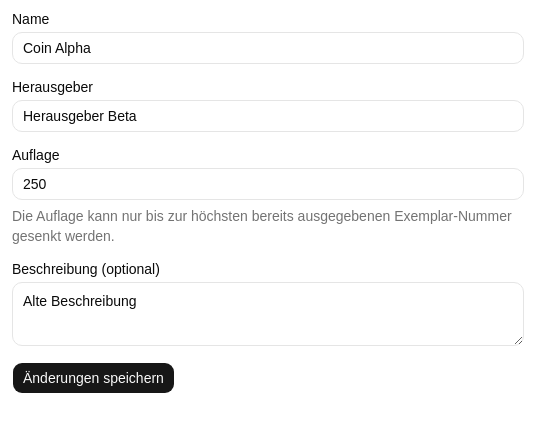
Test: Fehler vom Server › zeigt 403 für Deaktivierte „Ihr Benutzerkonto ist deaktiviert.“
The image size is (541, 447).
Click the button "Änderungen speichern" at (93, 378), box [12,362,175,394]
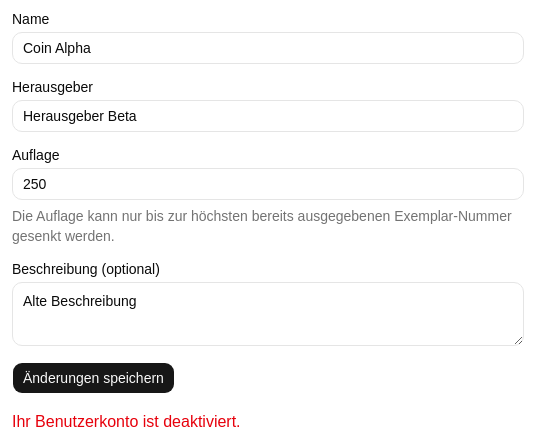
Now the message "Ihr Benutzerkonto ist deaktiviert." is shown, box [12,413,241,430]
